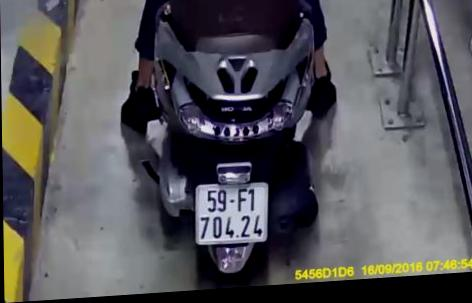License_Plate: (190, 177, 275, 253)
